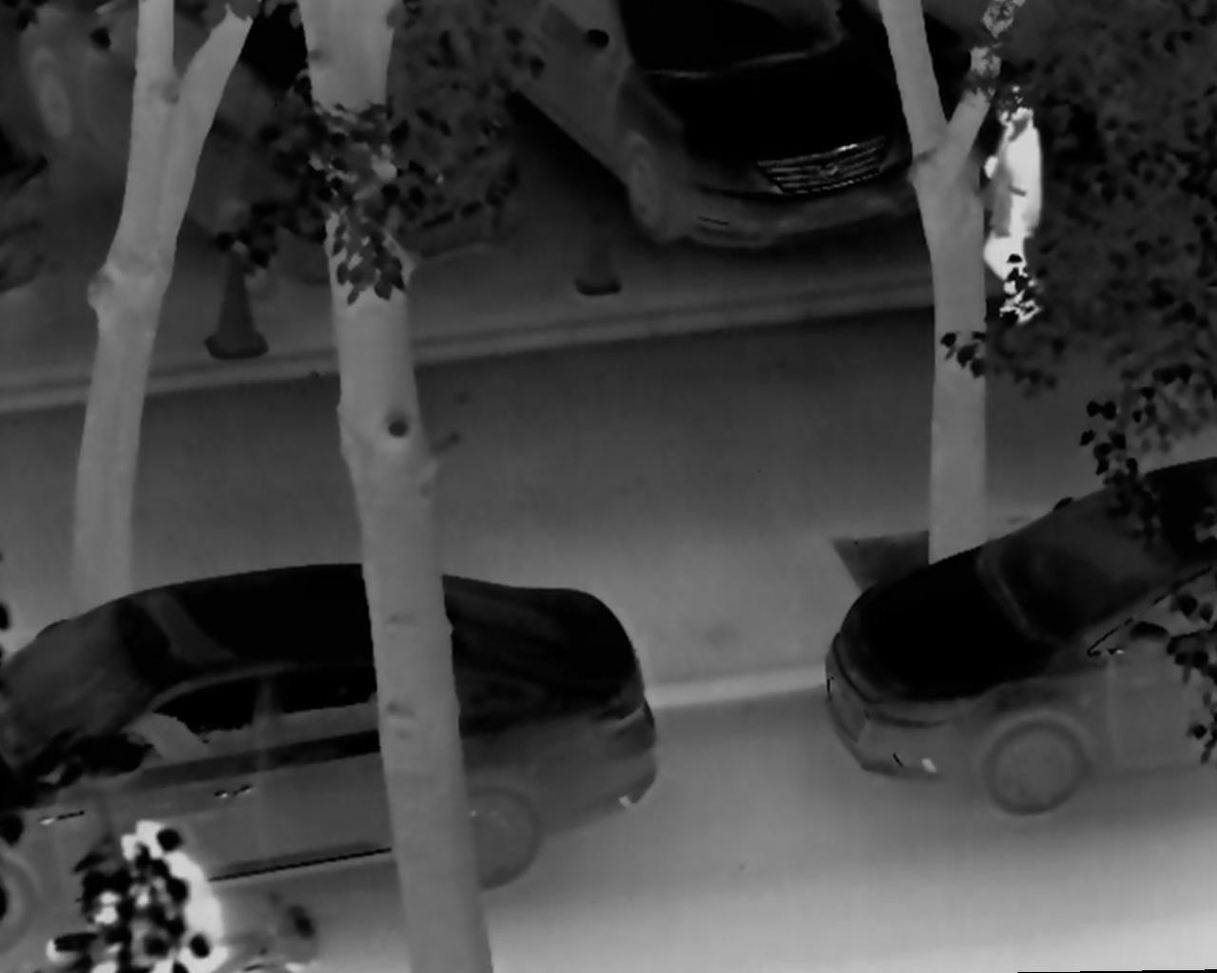person: (76, 811, 238, 973), (978, 83, 1052, 331)
